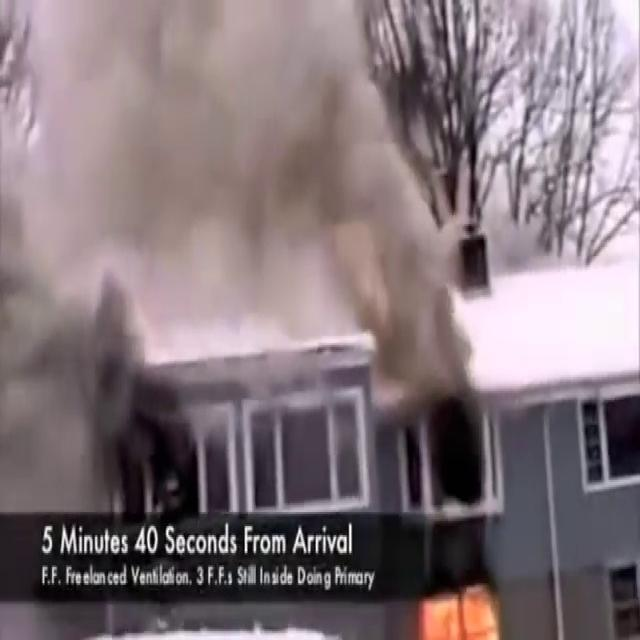Fire: (412, 570, 513, 640)
Smoke: (0, 0, 476, 508)
